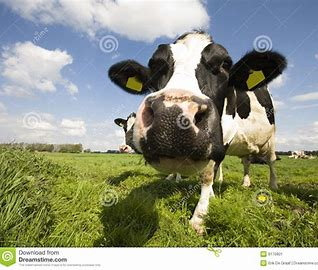waka: (103, 22, 292, 234)
